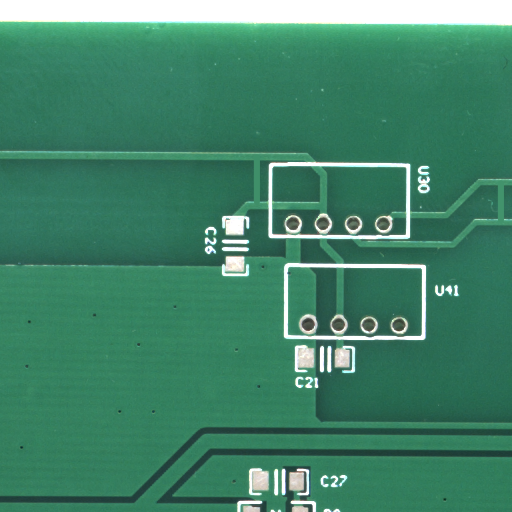Short: (257, 181, 268, 229), (501, 202, 510, 242)
